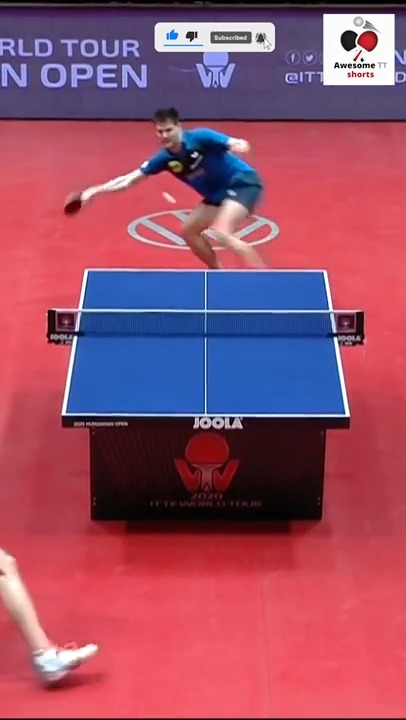Ball: (162, 192, 178, 202)
